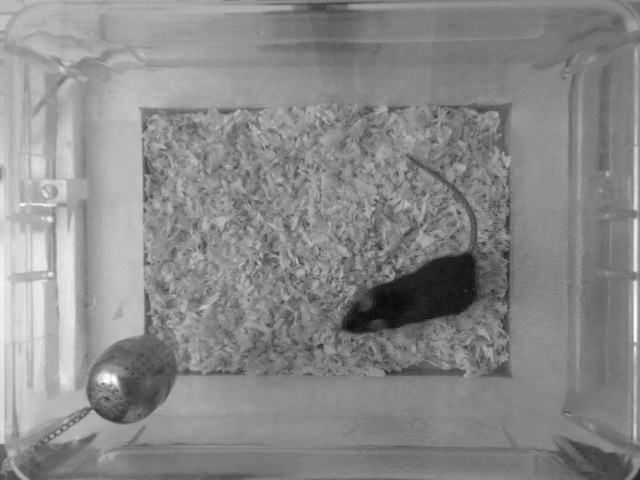mice: (338, 150, 481, 337)
